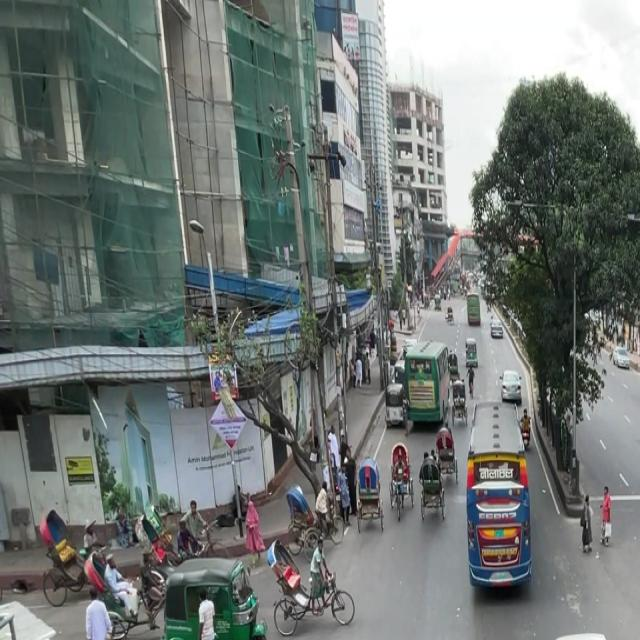bus: (465, 390, 529, 611)
car: (541, 617, 638, 640), (495, 365, 525, 407)
motorbike: (325, 475, 351, 540)
rickshaw: (162, 557, 268, 640)
